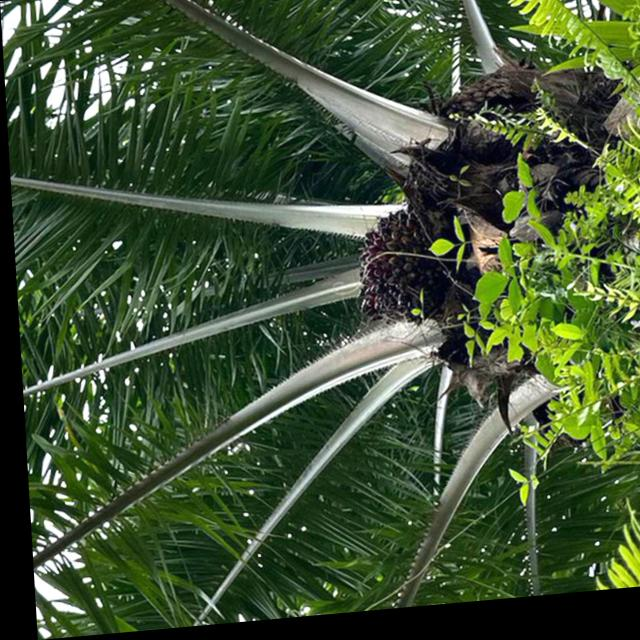ripe: (340, 209, 446, 338)
